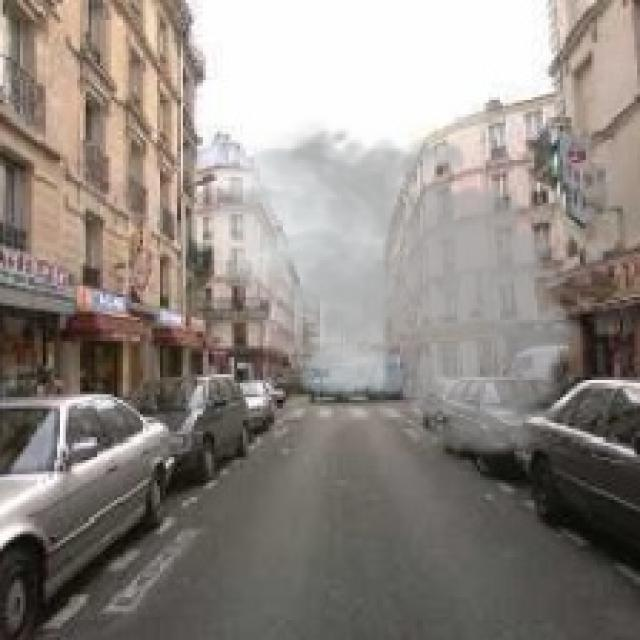Smoke: (191, 117, 603, 463)
